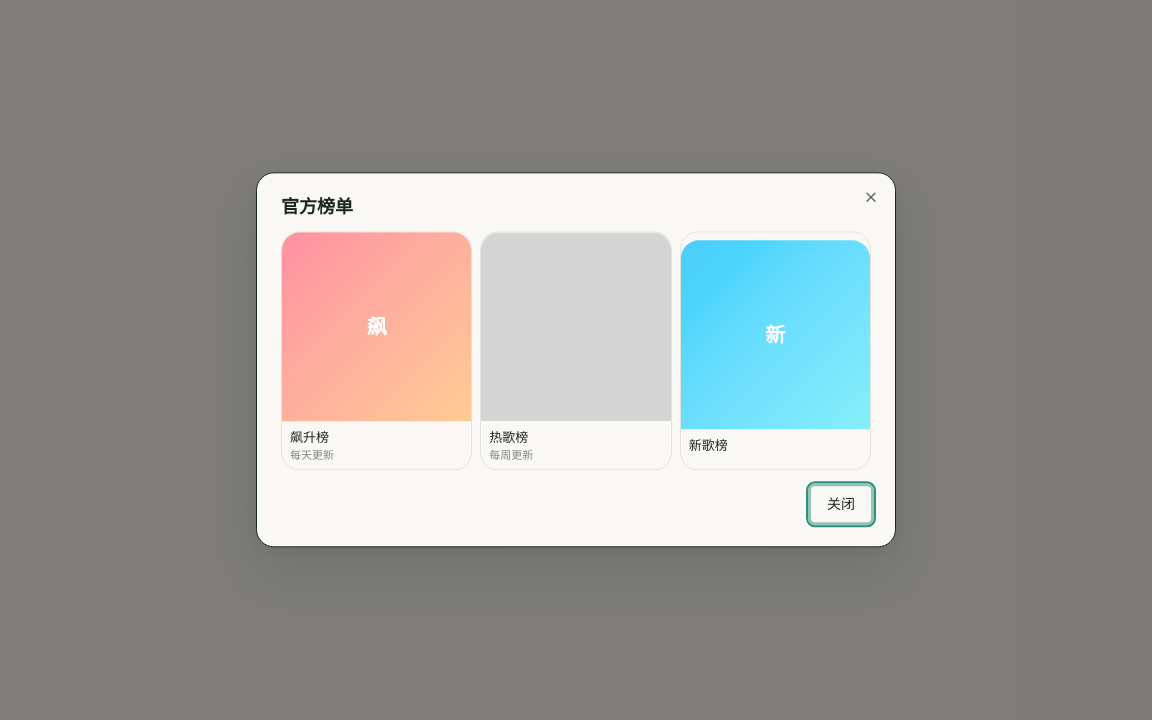
Test case: ChartsBrowseDialog › 取消勾选后导入按钮计数变化
Click the text "飙升榜". click: [310, 438]
box: left=290, top=429, right=329, bottom=447
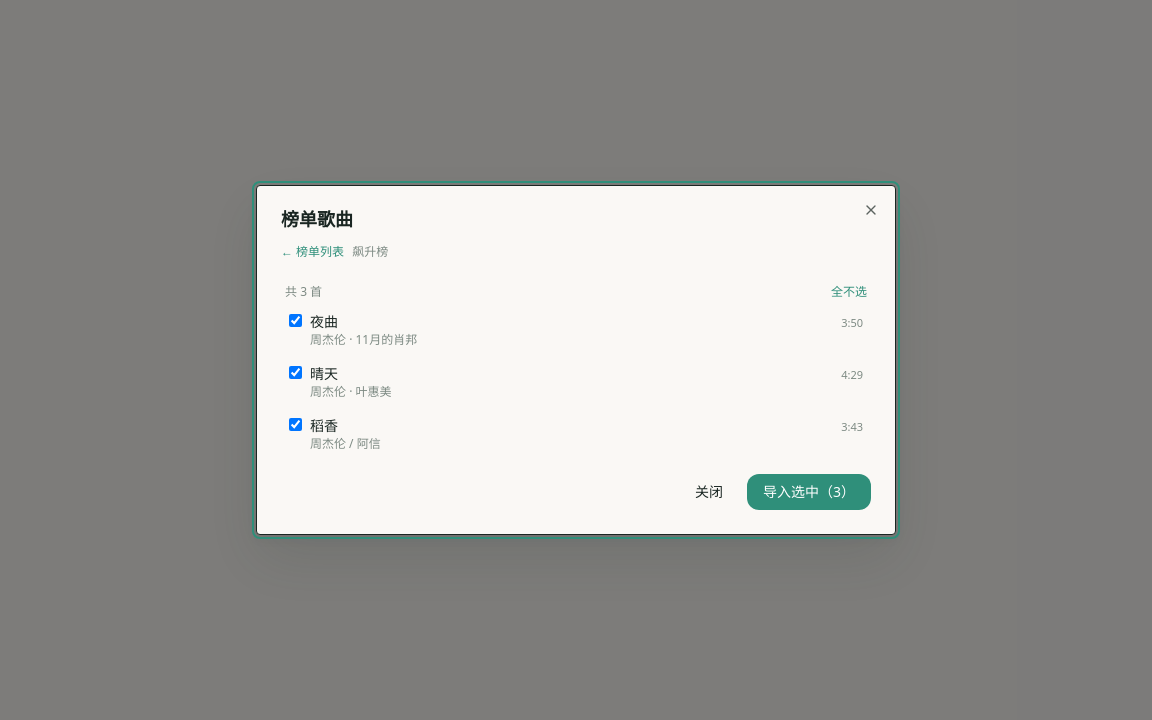
Check: the number of checkboxes with test id "song-checkbox" is 3
Click the checkbox with test id "song-checkbox" showing "夜曲 3:50 周杰伦 · 11月的肖邦". click: [296, 320]
box: left=289, top=314, right=302, bottom=327
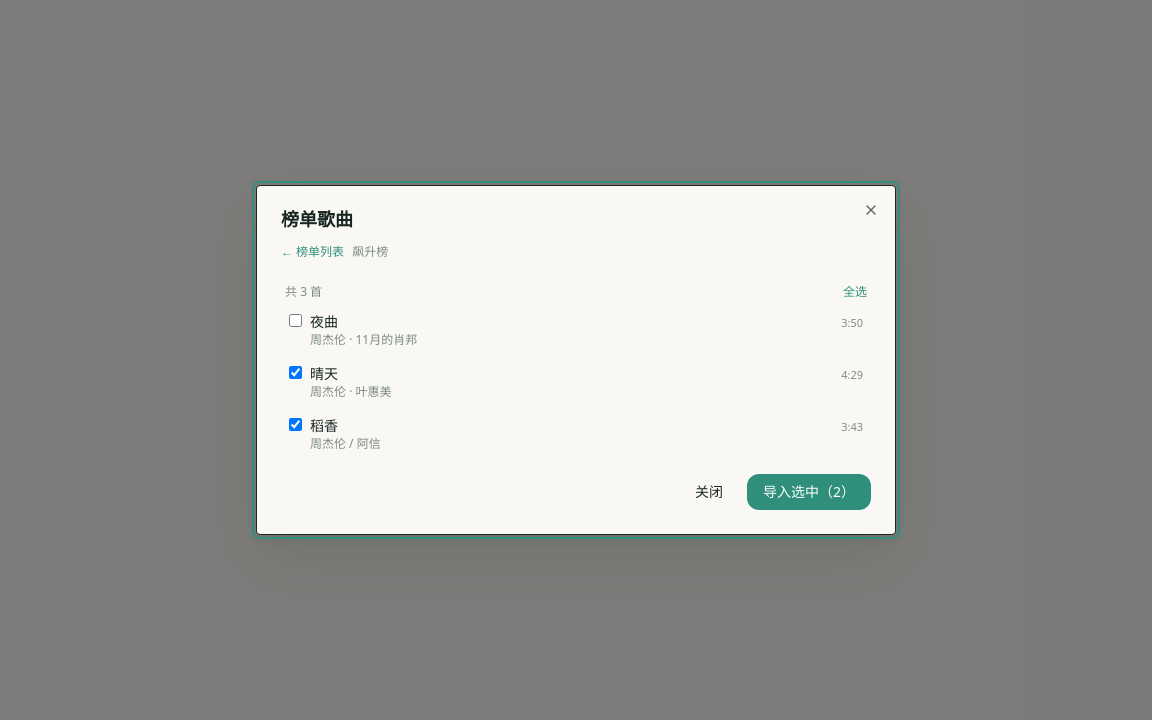
Check: the button with test id "import-button" reads "导入选中（2）", box left=747, top=474, right=871, bottom=510
Click the button with test id "toggle-all". click: [855, 292]
box: left=843, top=284, right=867, bottom=300
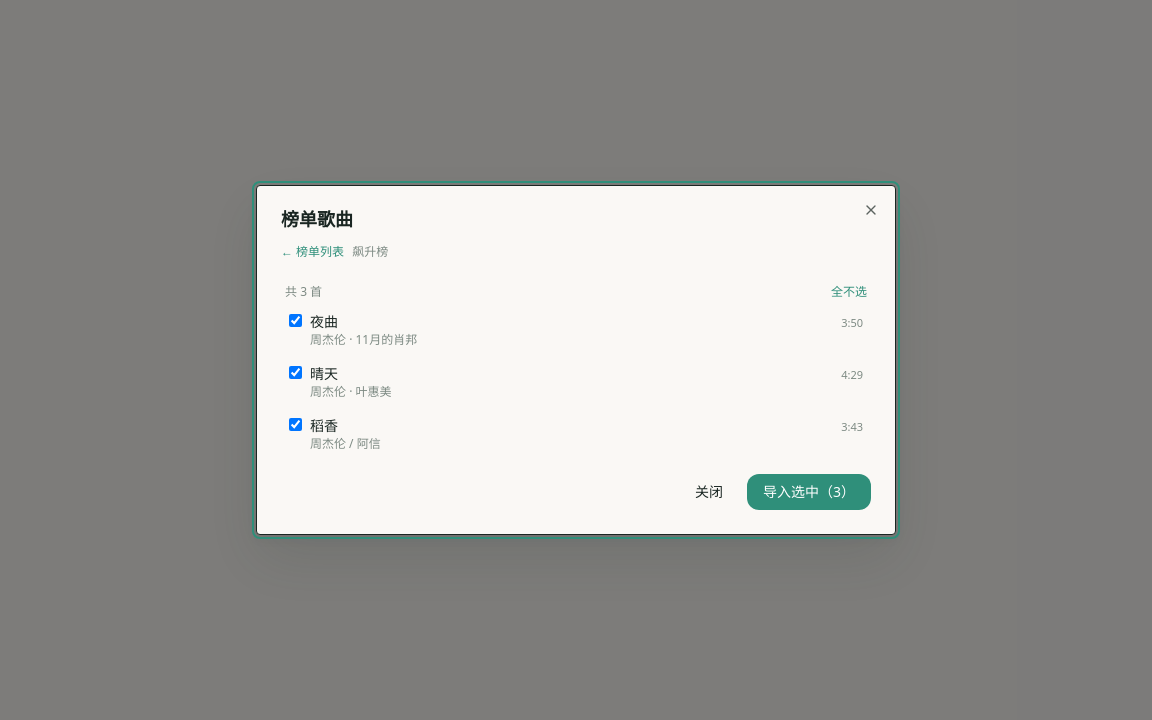
Check: the button with test id "import-button" reads "导入选中（3）", box left=747, top=474, right=871, bottom=510
Click the button with test id "toggle-all". click: [849, 292]
box: left=831, top=284, right=867, bottom=300
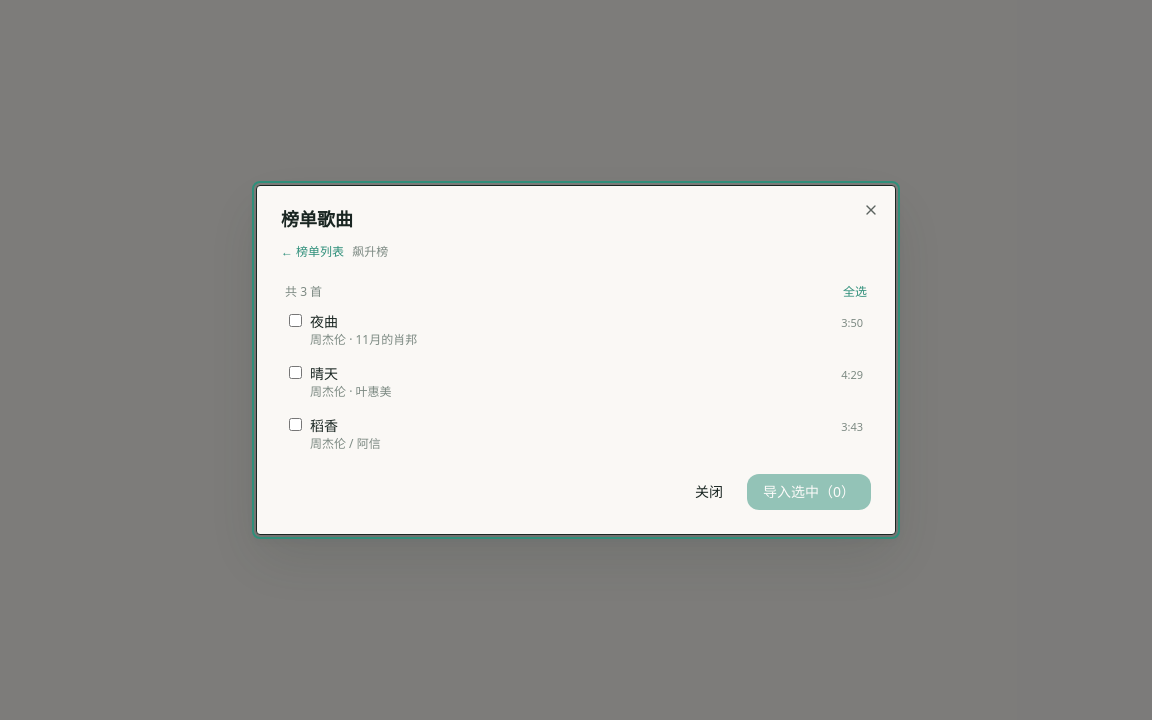
Check: the button with test id "import-button" reads "导入选中（0）", box left=747, top=474, right=871, bottom=510
